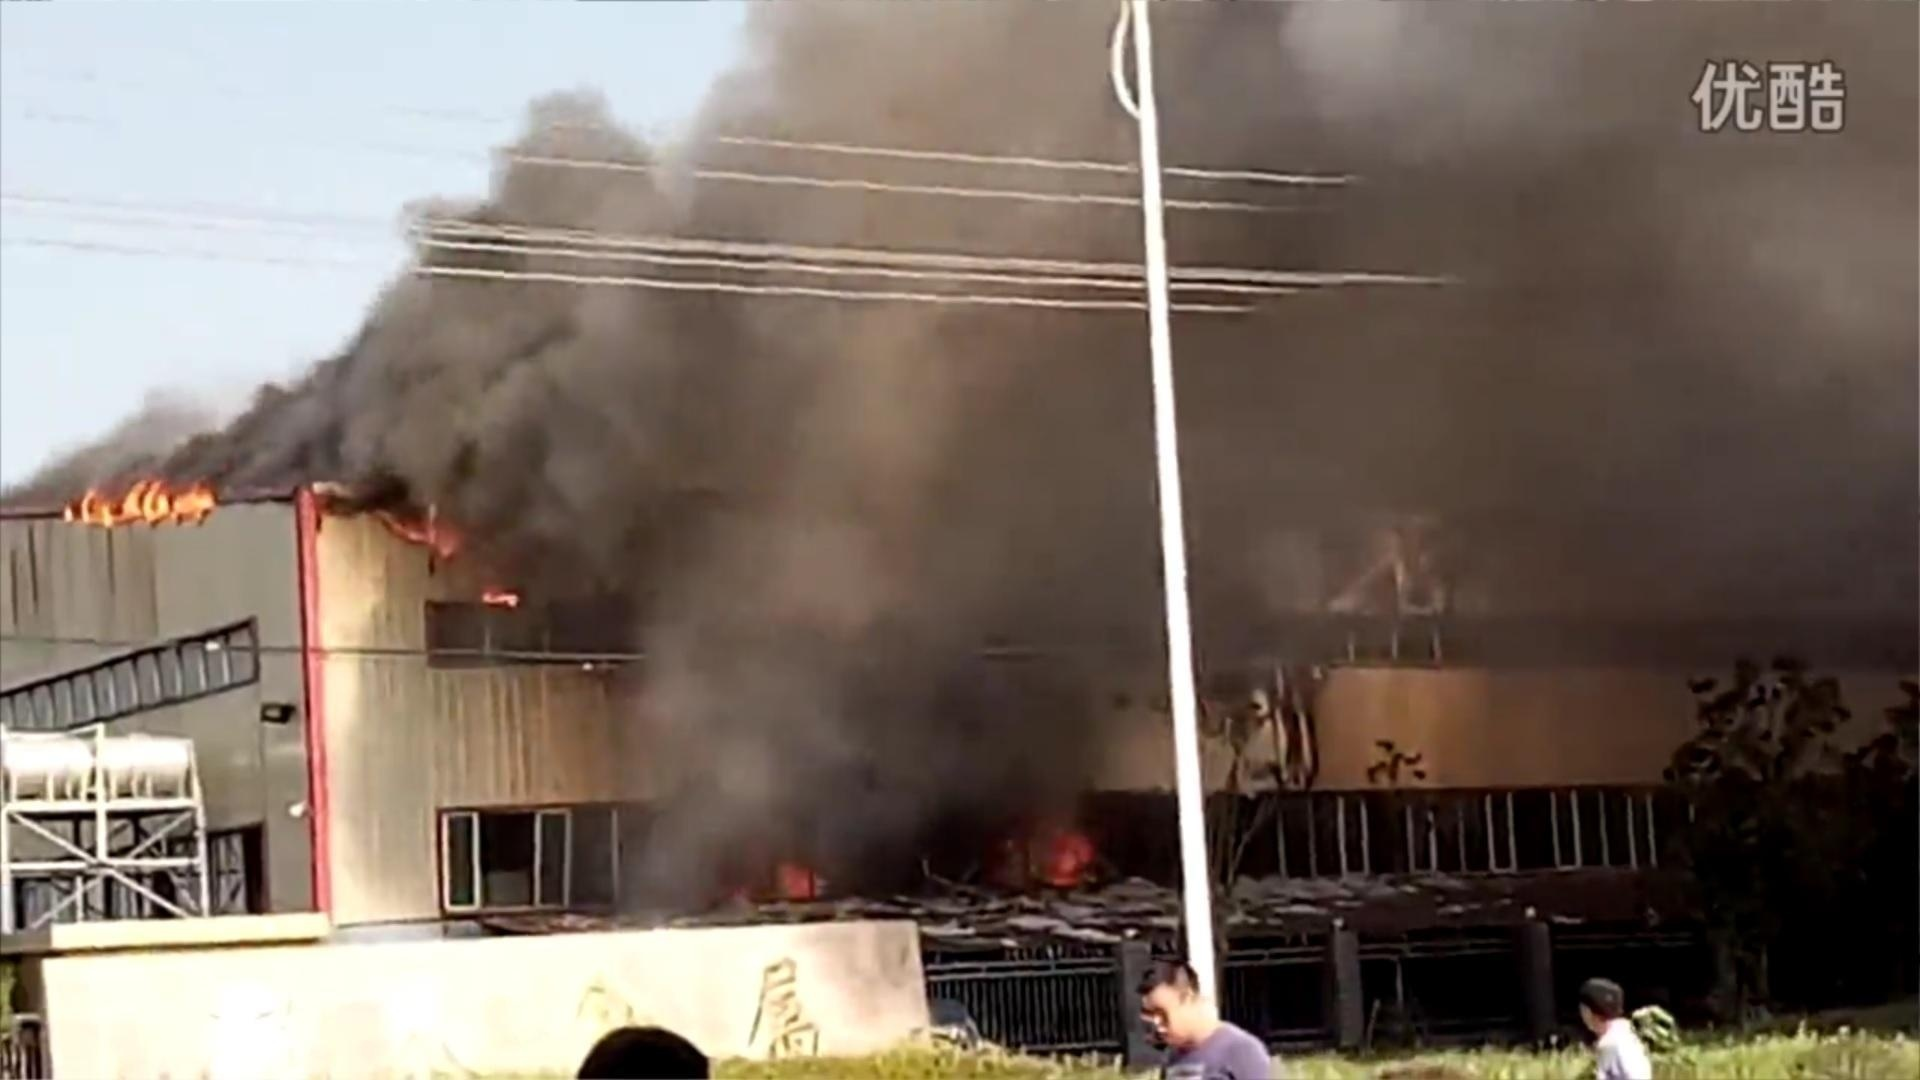fire: (61, 469, 215, 531), (1141, 971, 1215, 1035)
